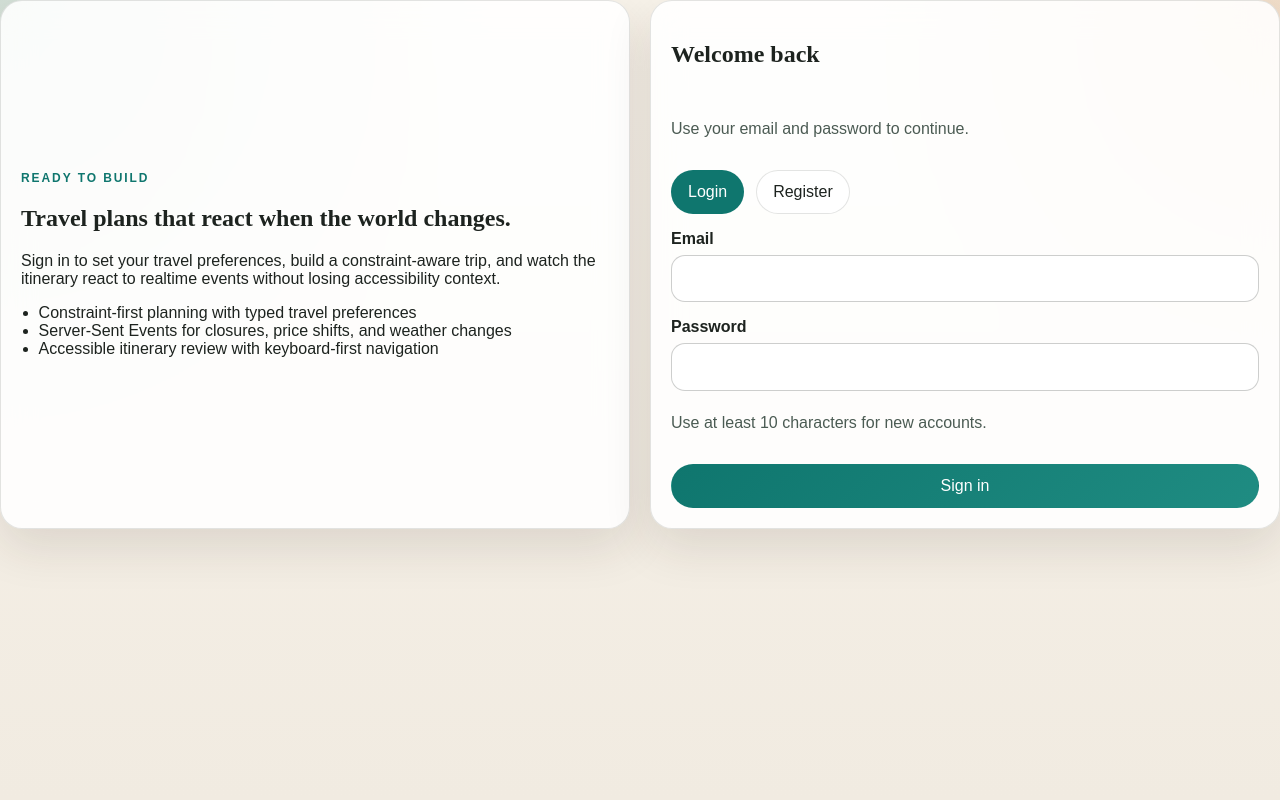
Test case: AuthPage – register mode › switches to 'Create your account' heading when Register tab is clicked
Click the tab "Register".
click(803, 192)  # box [756,170,850,214]
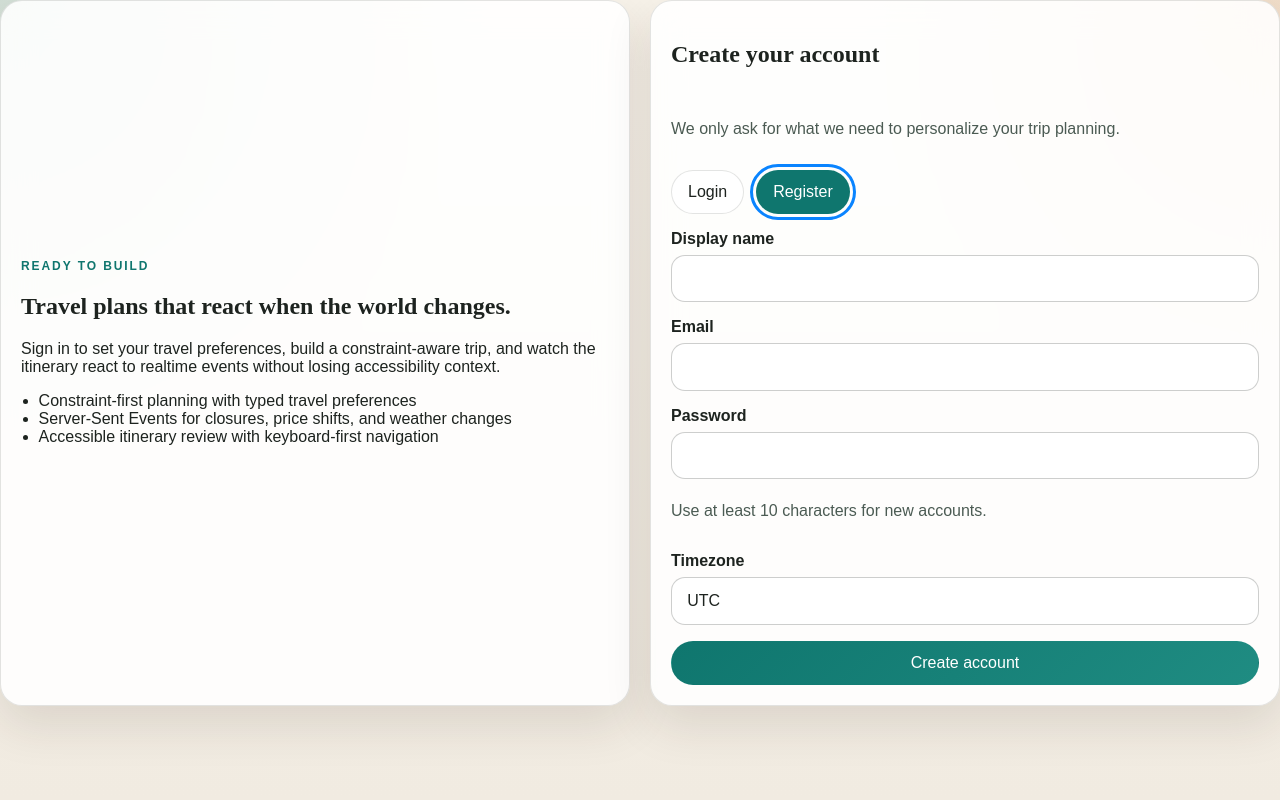
Check: the heading "Create your account" is shown, box [671,41,879,67]
